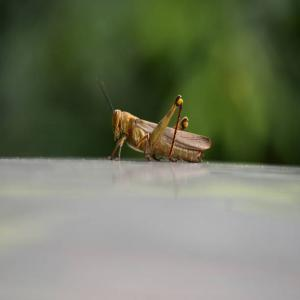locust: (94, 73, 213, 172)
